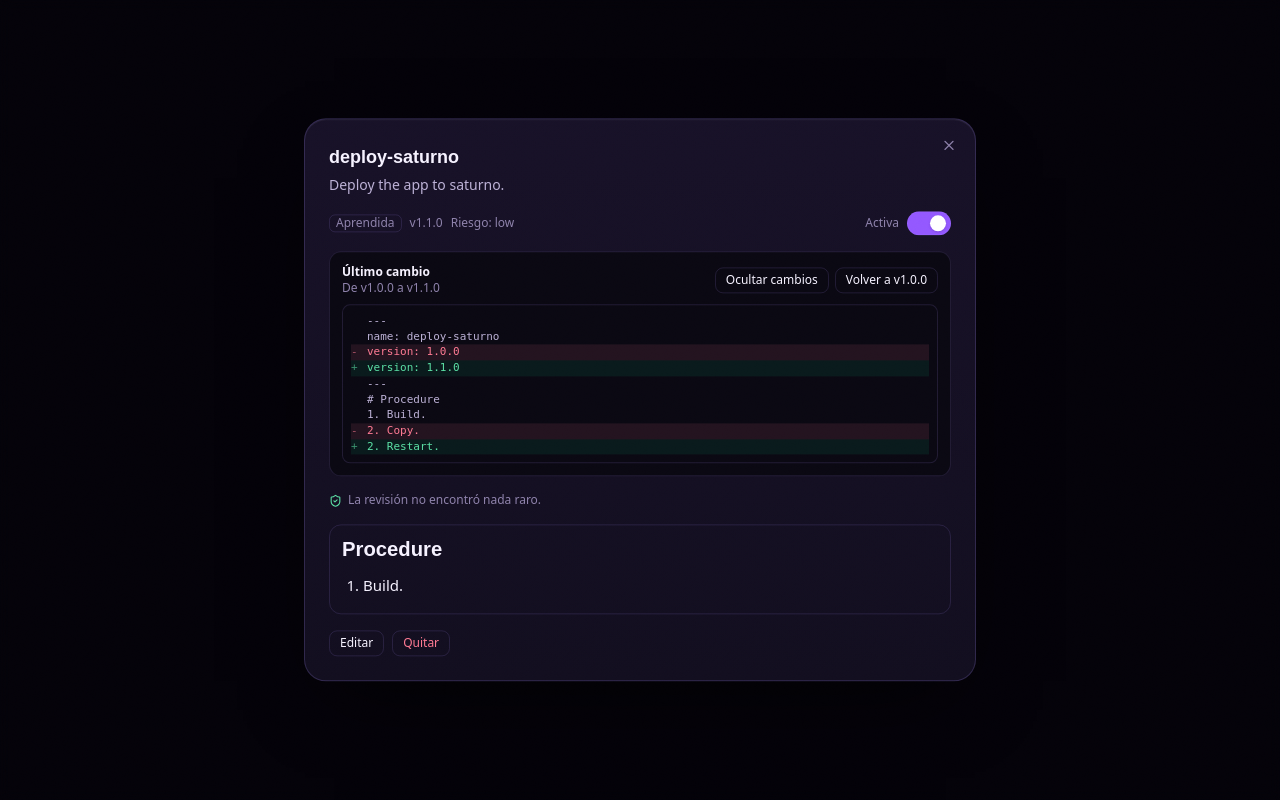
Test: skills aprendidas › la ficha de una skill aprendida muestra el último cambio y lo deshace
Expected: the element "Último cambio" shows "De v1.0.0 a v1.1.0", top-left (342, 279), bottom-right (440, 296)
Click the button "Volver a v1.0.0" at (886, 280), box top-left (835, 267), bottom-right (938, 293)
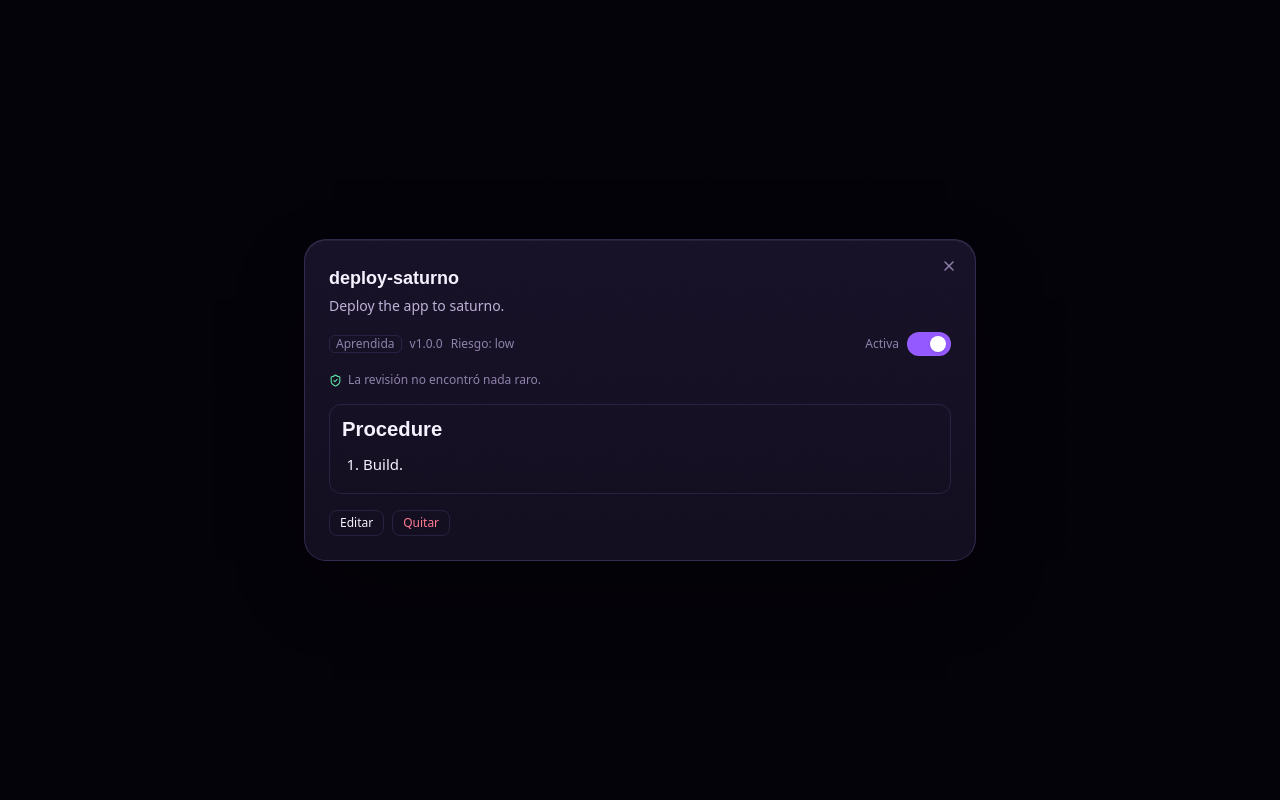
Now the text "Último cambio" is gone
